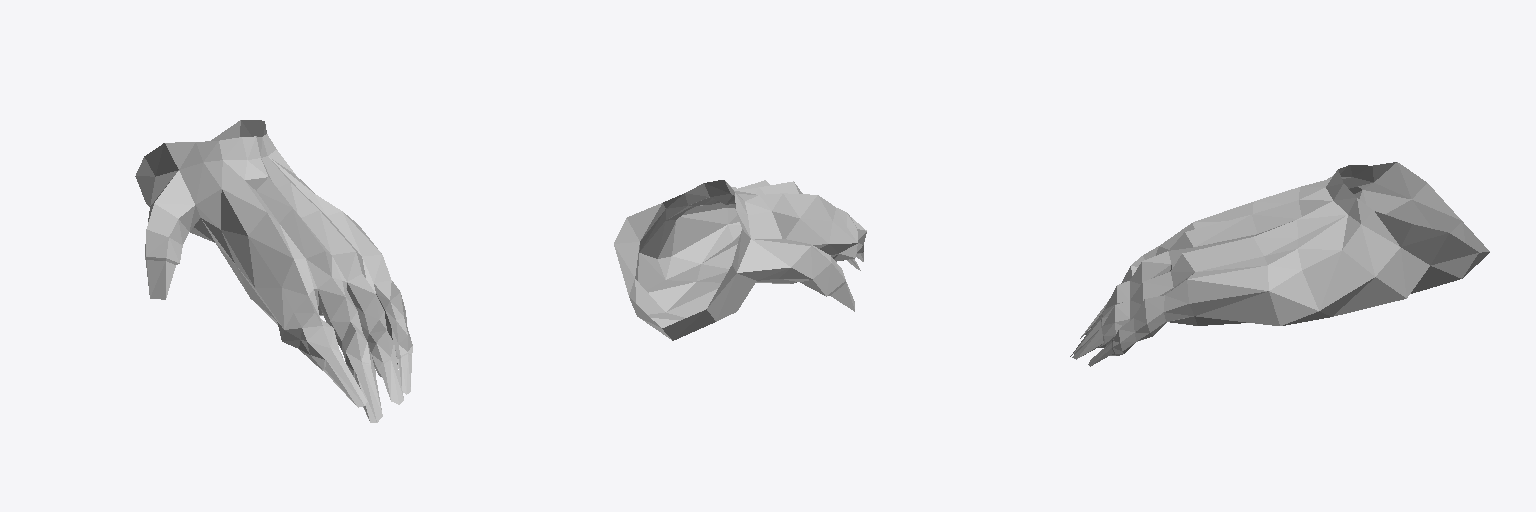
File: Foot_Left.obj
3 renders of one model, left to right at view 1: azimuth 30°, elevation 25°; view 2: azimuth 150°, elevation 25°; view 3: azimuth 270°, elevation 25°, orthographic.
Parts seen in each view (by area): view 1: Foot_Cube.025; view 2: Foot_Cube.025; view 3: Foot_Cube.025.
Boxes of the visible parts, box(x1,y1,x2,y2) form: Foot_Cube.025: box(135, 120, 412, 422); Foot_Cube.025: box(614, 180, 866, 340); Foot_Cube.025: box(1070, 162, 1489, 366).
Bounding box in the file's own units: 3.05 × 2.83 × 5.74.